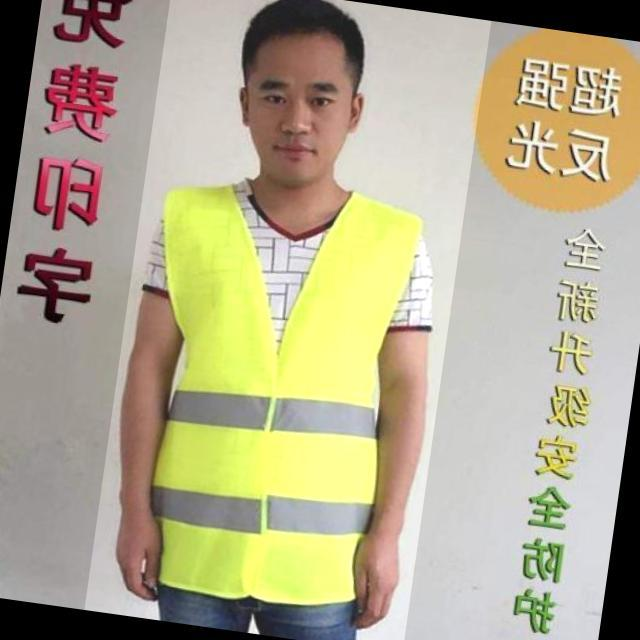Human: (84, 0, 491, 640)
Safety Vest: (114, 172, 435, 623)
